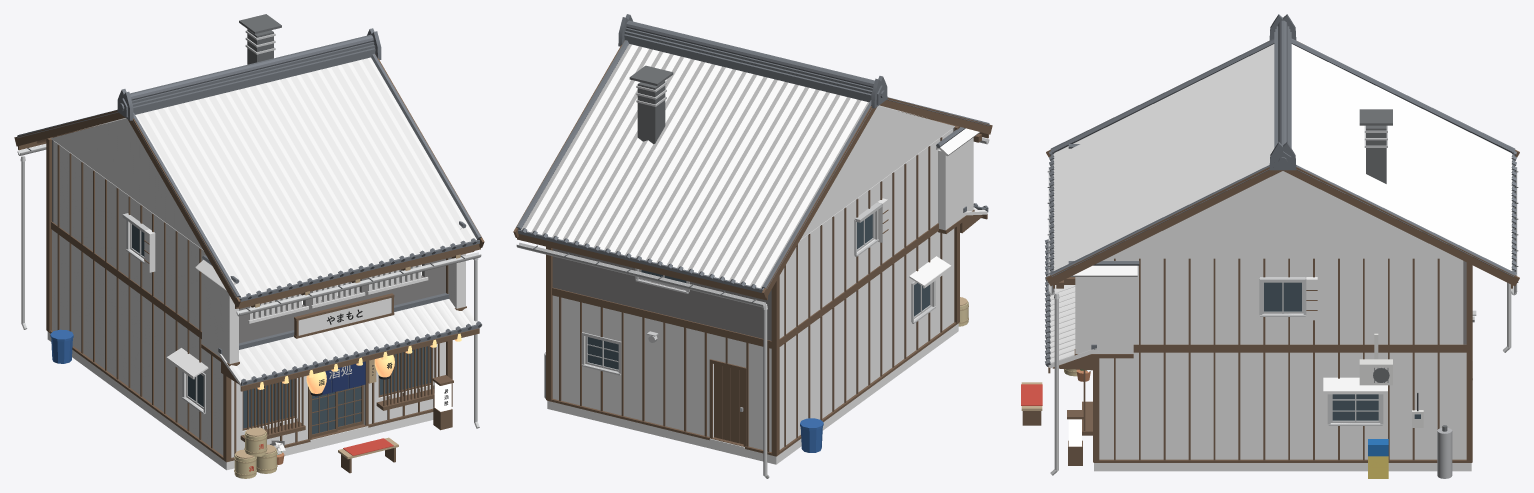
File: shop_izakaya.glb
3 views of the same model, side by side, from view 1: azimuth 30°, elevation 25°; view 2: azimuth 150°, elevation 25°; view 3: azimuth 270°, elevation 25° (orthographic). The views are drawn at different scales.
Parts seen in each view (by area): view 1: shop_izakaya_body; view 2: shop_izakaya_body; view 3: shop_izakaya_body.
Boxes of the visible parts, x1,y1,x2,y2 form: shop_izakaya_body: [14, 14, 484, 478]; shop_izakaya_body: [513, 14, 992, 478]; shop_izakaya_body: [1021, 14, 1519, 478].
Size of what is drawn, in the model's own units: 7.68 by 8.92 by 12.02.
